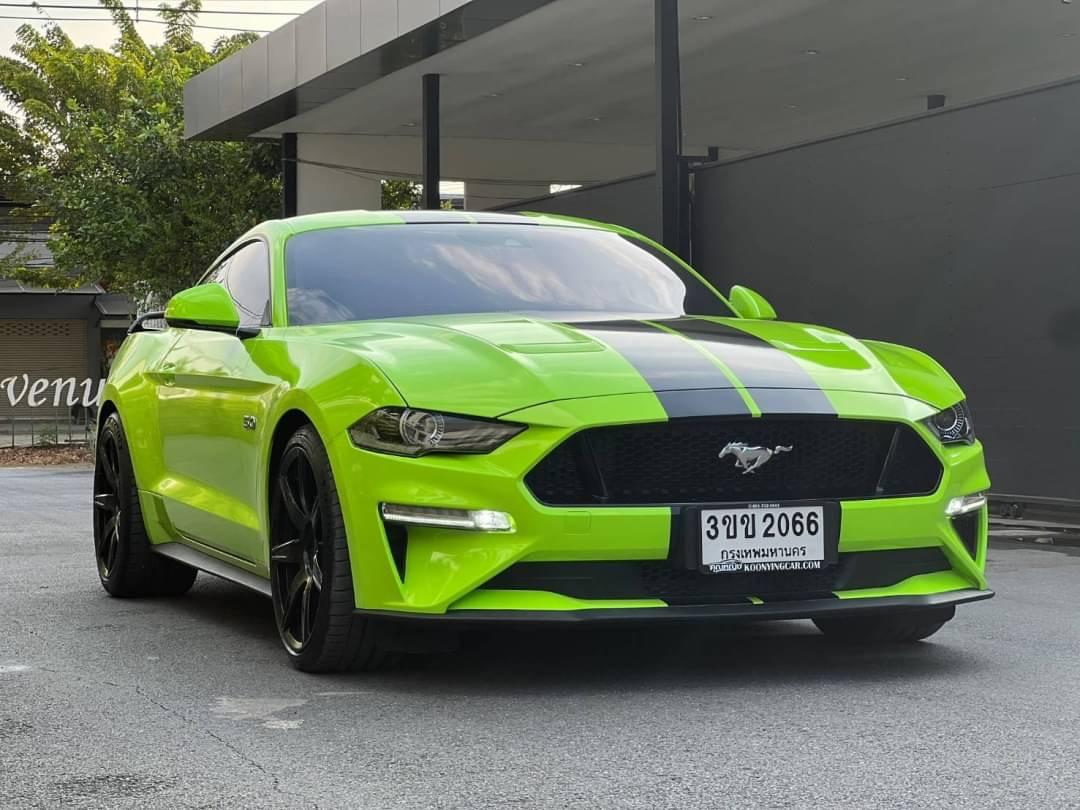license-plate: (693, 502, 832, 577)
